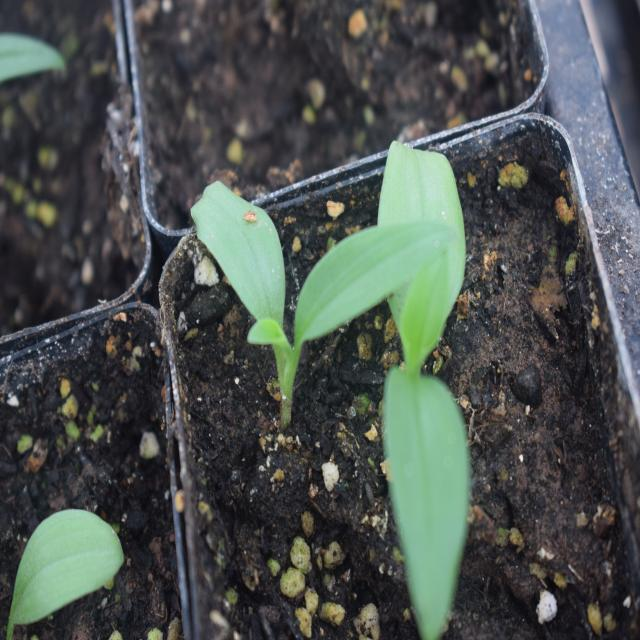Common Dayflower: (360, 134, 489, 598), (185, 182, 369, 391)
